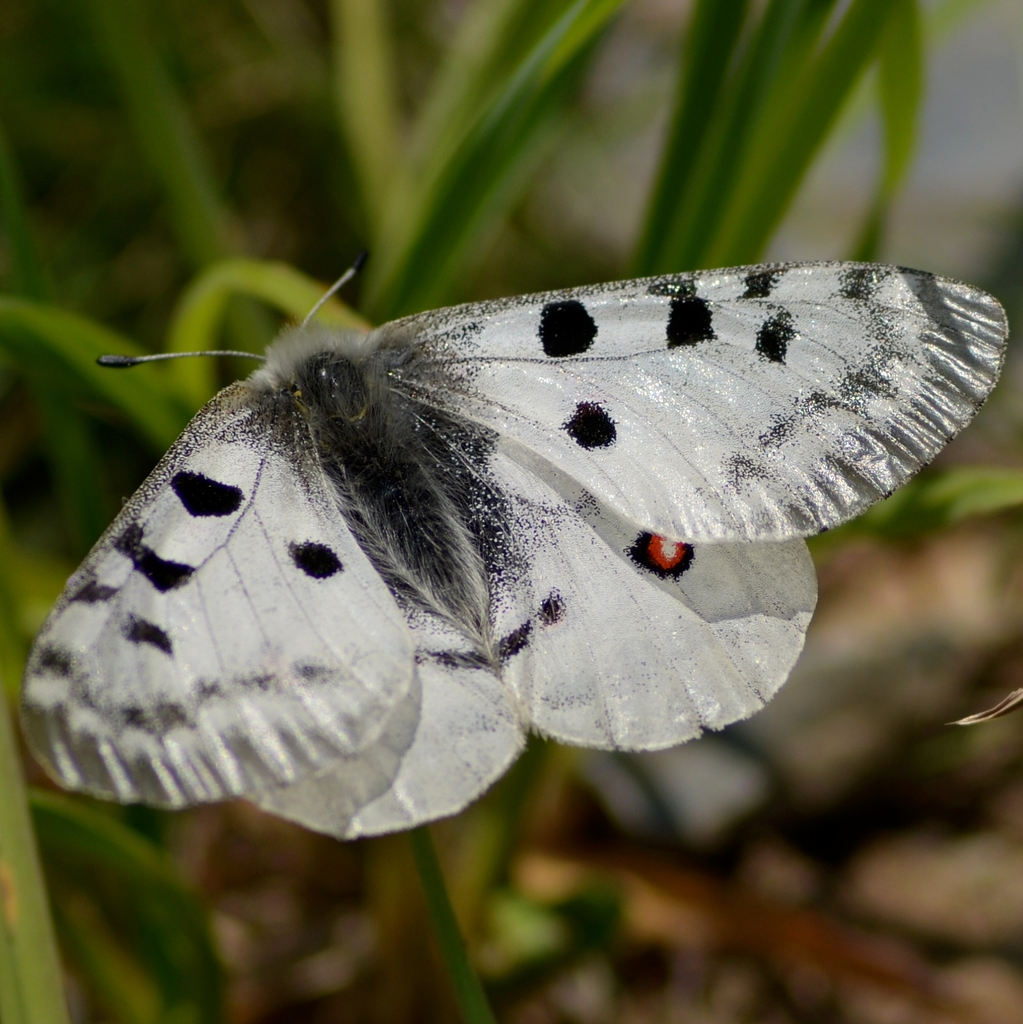Butterfly: (24, 255, 992, 876)
